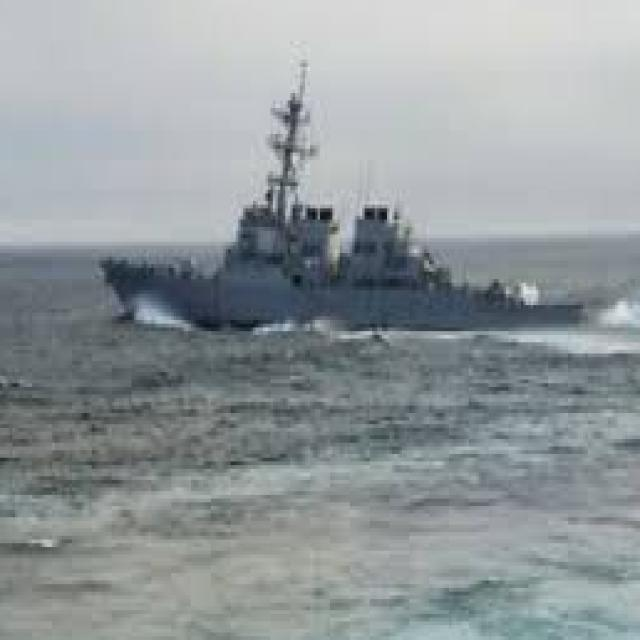navalvessels: (102, 93, 628, 358)
